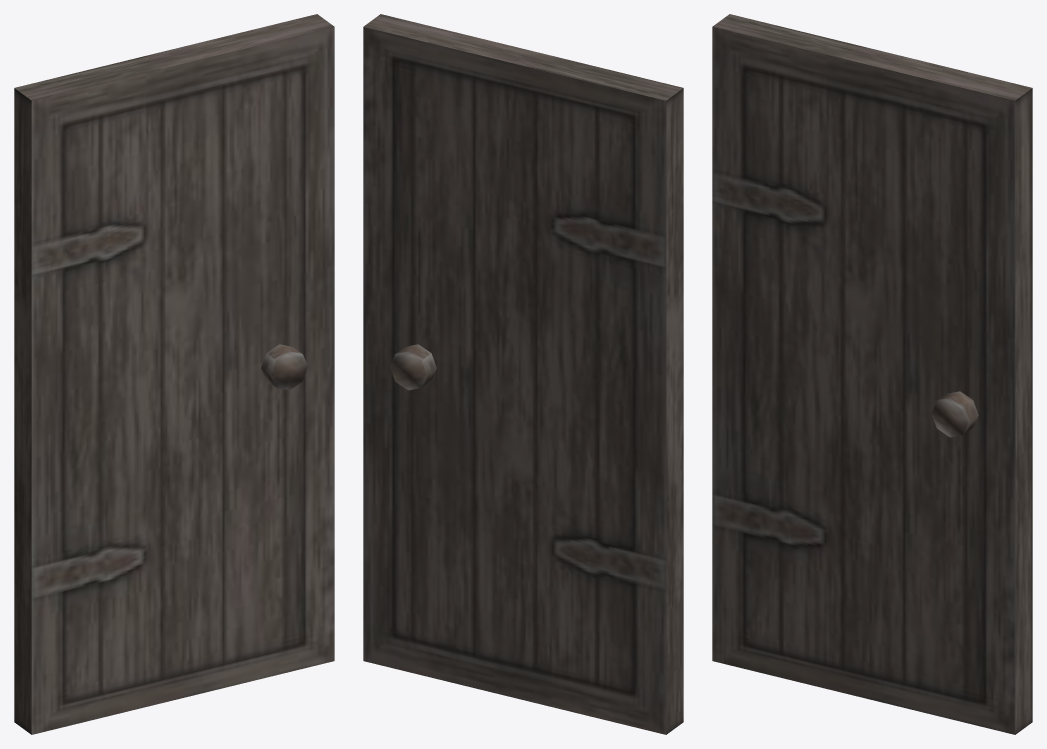
Rendered from sd_door.glb.
3 views of the same model, side by side, from view 1: azimuth 30°, elevation 25°; view 2: azimuth 150°, elevation 25°; view 3: azimuth 330°, elevation 25° (orthographic).
Visible parts, largest first — view 1: door; view 2: door; view 3: door.
Part boxes in pixels (x1,y1,x2,y2): door: (14,14,334,734); door: (363,14,683,734); door: (712,14,1032,734).
Size of the model in its own units: 1 by 2 by 0.2146.
1 material, 1 textured.
